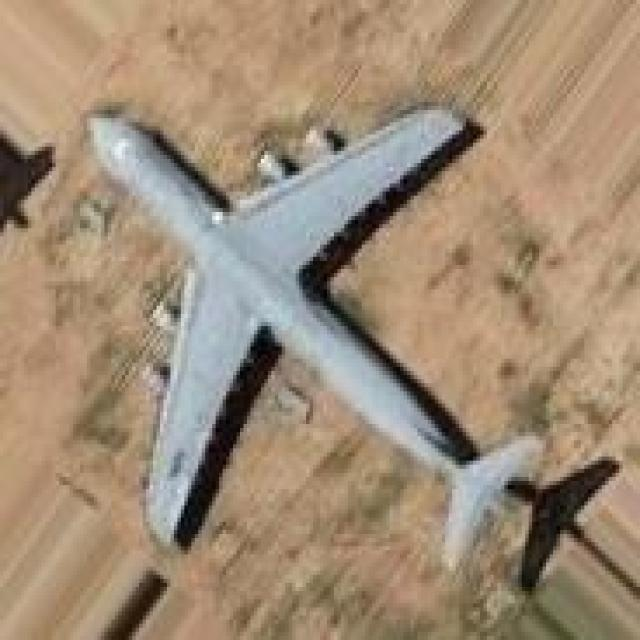C-5_TopDown: (84, 102, 637, 598)
